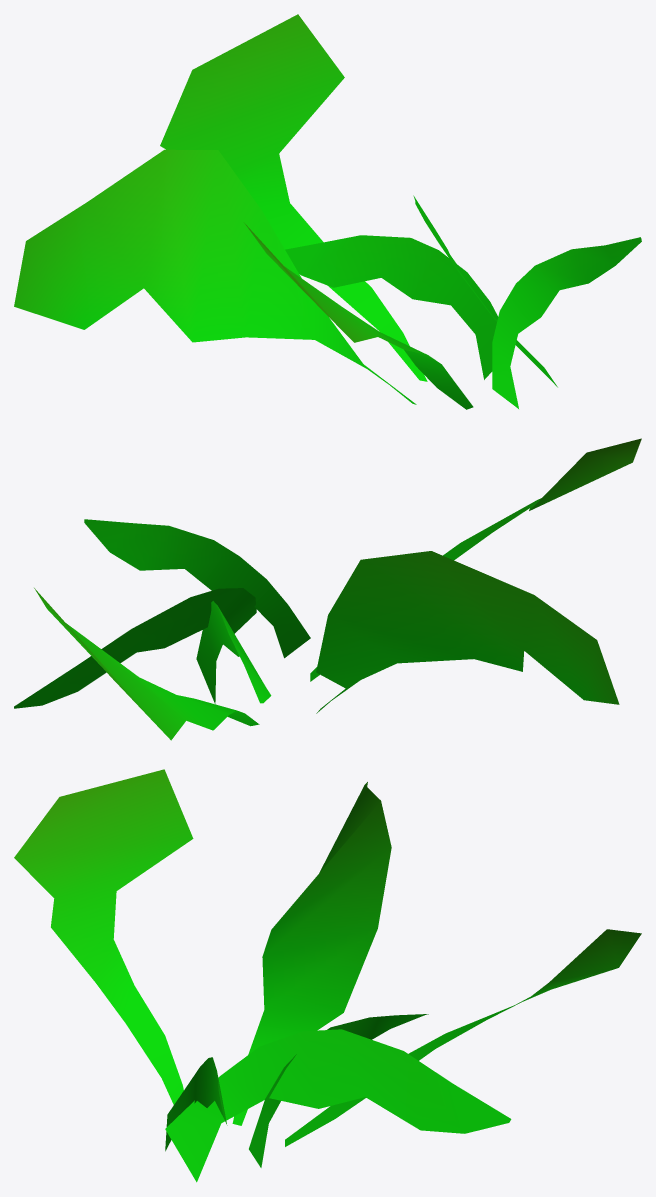
File: Lady Fern_LOD2_Var15_wdvlditia.fbx
3 views of the same model, one above another, from view 1: azimuth 30°, elevation 25°; view 2: azimuth 150°, elevation 25°; view 3: azimuth 270°, elevation 25° (orthographic). The views are drawn at different scales.
Parts seen in each view (by area): view 1: _qp0f_Var15_LOD2; view 2: _qp0f_Var15_LOD2; view 3: _qp0f_Var15_LOD2.
Boxes of the visible parts, bbox=[...] form: _qp0f_Var15_LOD2: bbox=[14, 14, 641, 409]; _qp0f_Var15_LOD2: bbox=[14, 438, 641, 740]; _qp0f_Var15_LOD2: bbox=[14, 769, 641, 1182].
Bounding box in the file's own units: 26.1 × 11.85 × 25.9.
